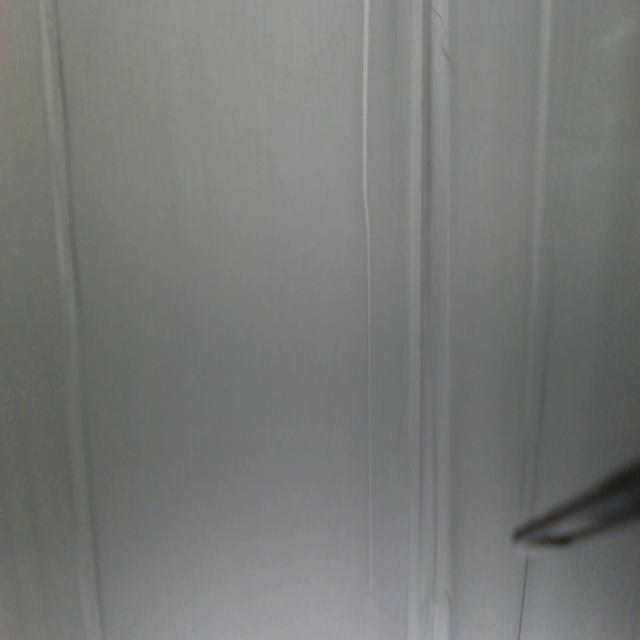crease: (39, 0, 108, 640), (409, 1, 454, 630), (362, 1, 376, 599), (516, 553, 531, 640)
